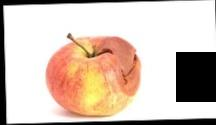rotten apple: (39, 30, 150, 117)
